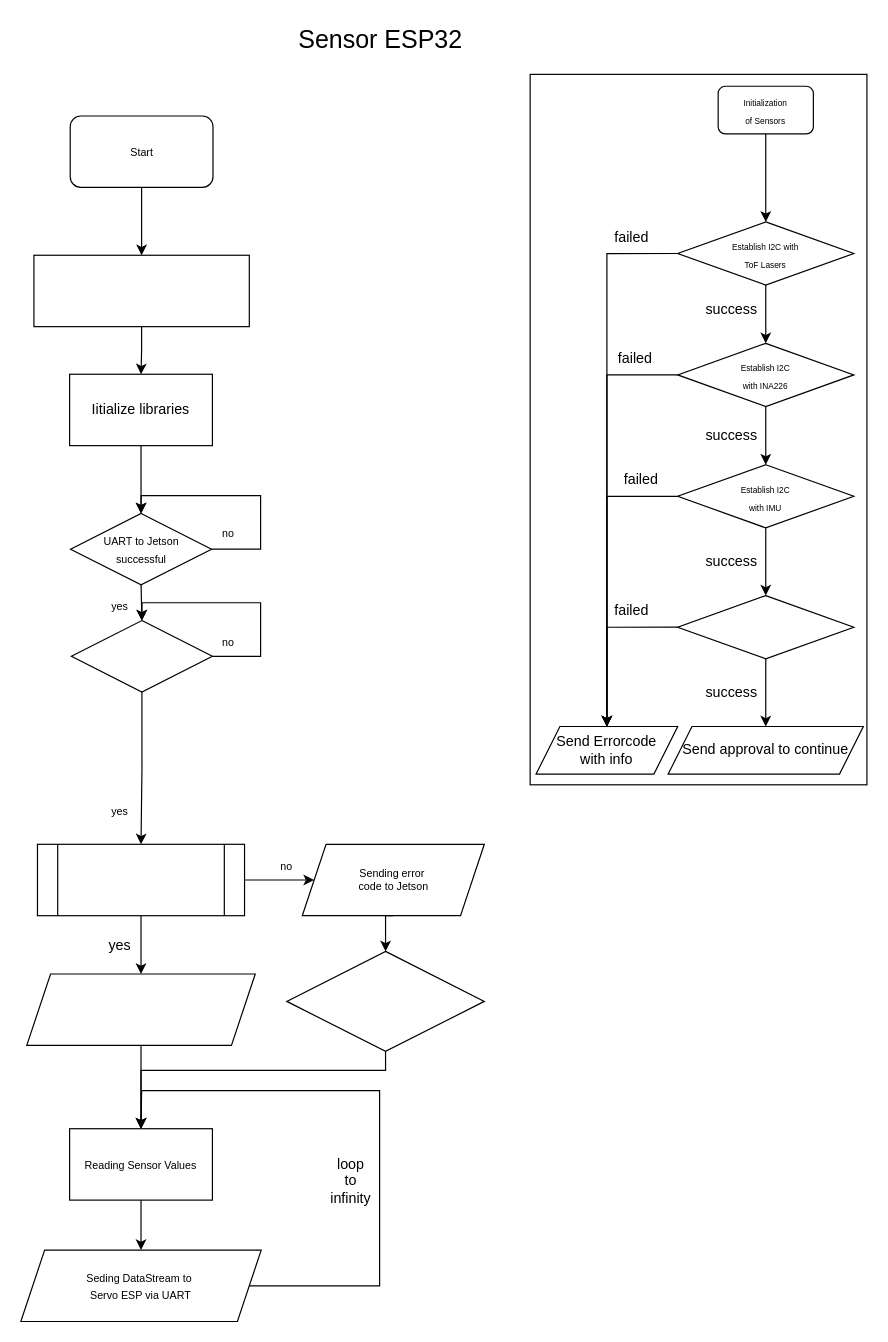
The diagram is 888 pixels wide and 1342 high, and some of its shapes have lost their labels. Here are the shapes that lost their labels. From the top down, the centre of each, then its label:
At pixel 141 290: "Wait X sec for bootup of Jetson".
At pixel 765 626: "Test HC-SR04".
At pixel 141 655: "UART to Servo ESP32 successful".
At pixel 140 879: "Initialization and checking of sensors".
At pixel 140 1009: "Sending success of initialization and startup".
At pixel 385 1000: "Approval from Jetson to continue".
